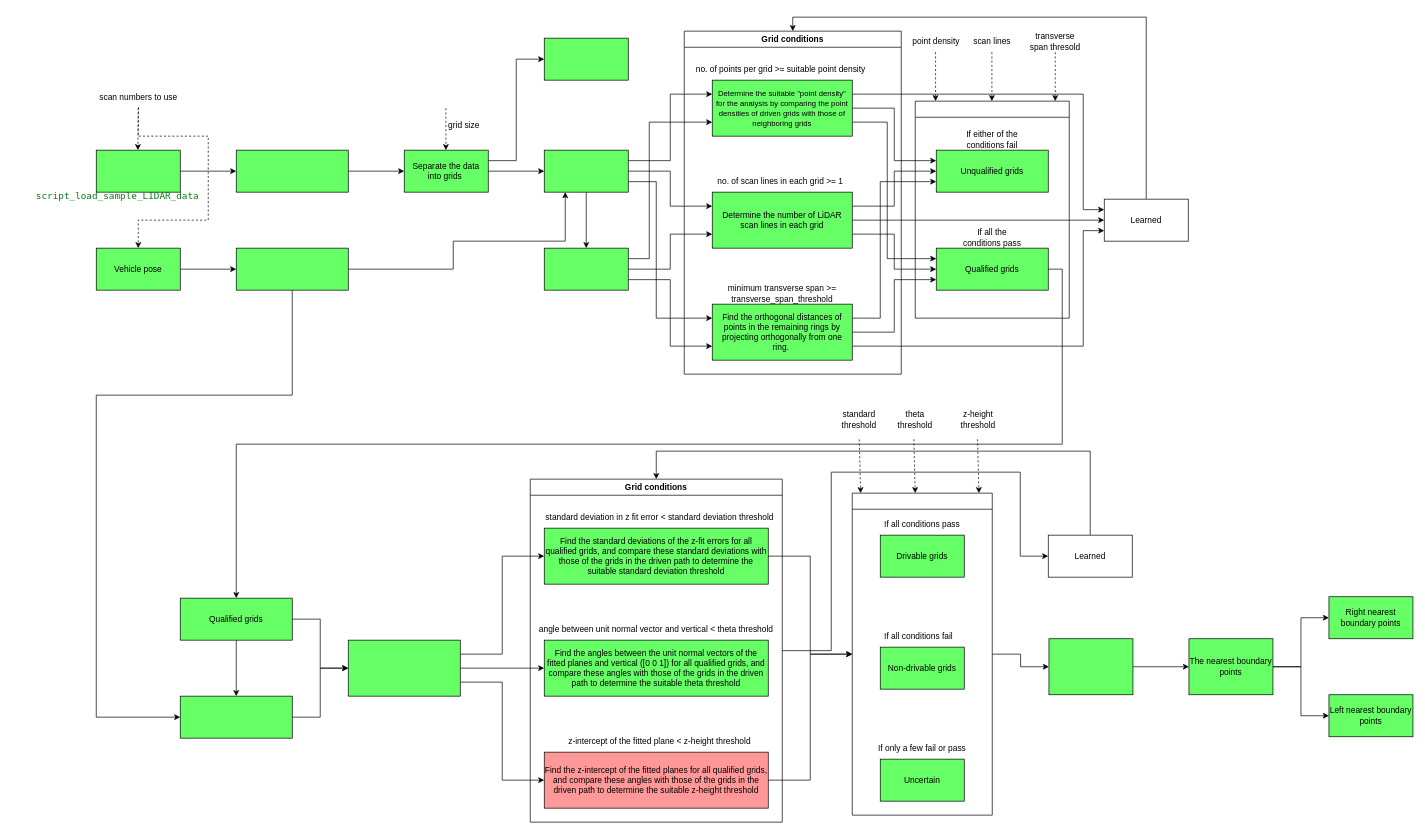
Image size: 1425x834. Some labels were removed from this diagram. Each missing label, with the box of its shape:
Boundary points: (1048, 638, 1133, 695)
Check if enough data have been measured based on LiDAR range Dr B: (236, 149, 348, 192)
Find the boundary points of the driven path for creating a bounding box: (236, 247, 348, 290)
Find the driven path grids. (The grids inside bounding box): (544, 247, 628, 290)
Find the driven paths in the qualified grids: (180, 695, 292, 738)
Find the grids containing more than zero points: (544, 149, 628, 192)
Find the grids with zero points and remove them: (544, 37, 628, 80)
Fit a plane to each grid using linear regression: (348, 639, 460, 696)
LiDAR data Dr B: (96, 149, 180, 192)
Voting: (852, 492, 992, 815)
